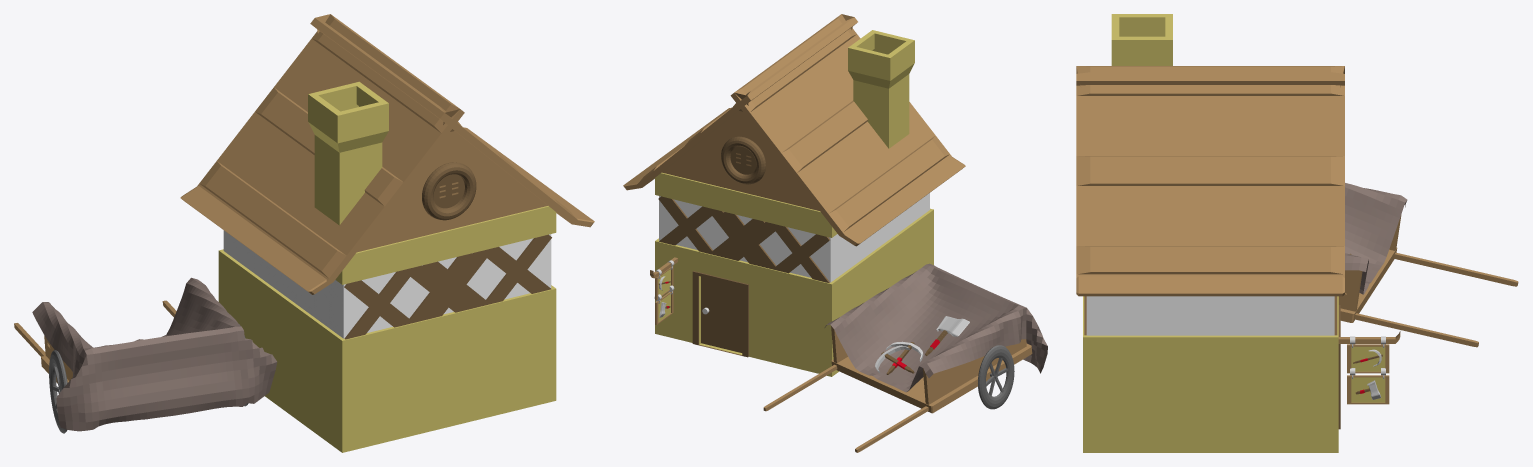
Rendered from casa das tropas (coleta).fbx.
3 views of the same model, side by side, from view 1: azimuth 30°, elevation 25°; view 2: azimuth 150°, elevation 25°; view 3: azimuth 270°, elevation 25° (orthographic). The views are drawn at different scales.
Parts seen in each view (by area): view 1: Cube, Cube.002, Plane, Torus, Cube.008, Cube.001; view 2: Cube.002, Plane, Cube, Torus, Cube.008, Cube.001, Cube.010; view 3: Cube.002, Cube, Cube.001, Plane, Cube.008, Cube.011, Cube.003, Torus, Cube.007.
Part boxes in pixels (x1=…): Cube: x1=218, y1=206, x2=556, y2=452; Cube.002: x1=180, y1=14, x2=594, y2=294; Plane: x1=14, y1=277, x2=277, y2=433; Torus: x1=344, y1=162, x2=551, y2=339; Cube.008: x1=308, y1=81, x2=388, y2=225; Cube.001: x1=223, y1=230, x2=551, y2=338; Cube.002: x1=623, y1=14, x2=965, y2=246; Plane: x1=763, y1=263, x2=1047, y2=452; Cube: x1=655, y1=172, x2=933, y2=376; Torus: x1=658, y1=136, x2=830, y2=357; Cube.008: x1=848, y1=30, x2=914, y2=148; Cube.001: x1=659, y1=193, x2=929, y2=282; Cube.010: x1=925, y1=316, x2=969, y2=355; Cube.002: x1=1076, y1=66, x2=1344, y2=296; Cube: x1=1083, y1=296, x2=1338, y2=452; Cube.001: x1=1086, y1=296, x2=1334, y2=335; Plane: x1=1338, y1=183, x2=1518, y2=347; Cube.008: x1=1111, y1=14, x2=1172, y2=65; Cube.011: x1=1347, y1=375, x2=1389, y2=404; Cube.003: x1=1349, y1=346, x2=1388, y2=371; Torus: x1=1084, y1=296, x2=1340, y2=429; Cube.007: x1=1347, y1=344, x2=1389, y2=373.
Bounding box in the file's own units: 432 × 299 × 346.
